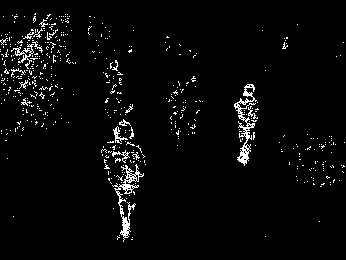person: (99, 117, 147, 241), (233, 82, 261, 166), (101, 59, 135, 118)
